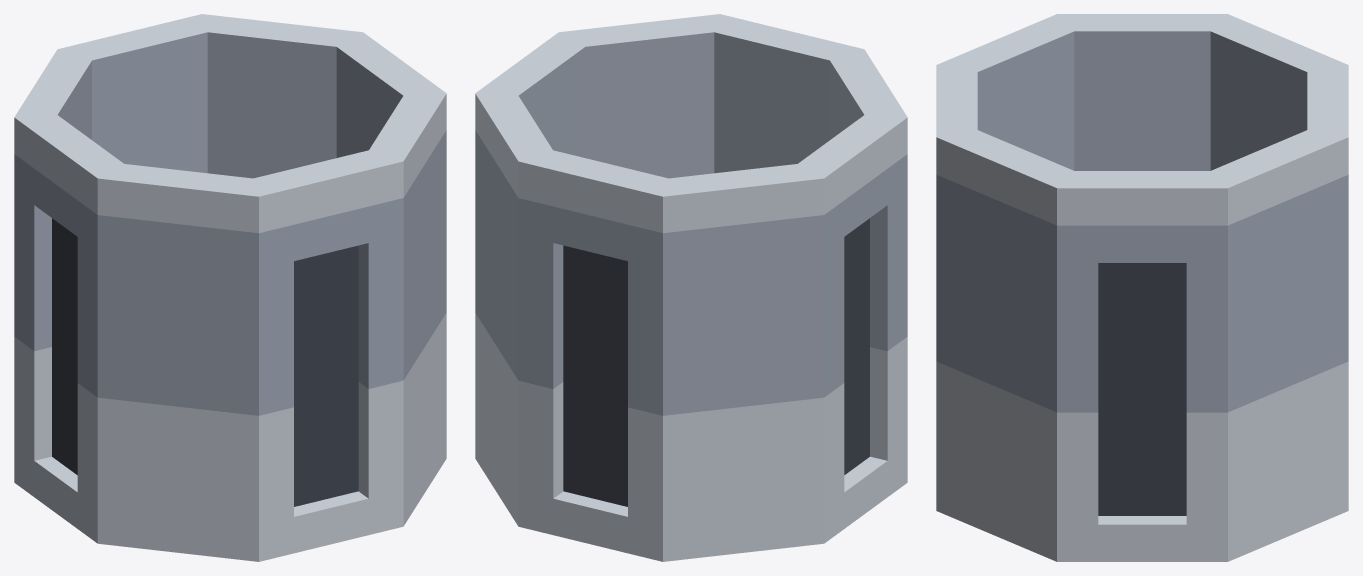
File: rocket_sidesA.glb
3 views of the same model, side by side, from view 1: azimuth 30°, elevation 25°; view 2: azimuth 150°, elevation 25°; view 3: azimuth 270°, elevation 25° (orthographic). The views are drawn at different scales.
Visible parts, largest first — view 1: rocket_sidesA; view 2: rocket_sidesA; view 3: rocket_sidesA.
Boxes of the visible parts, x1,y1,x2,y2 form: rocket_sidesA: [14, 14, 446, 561]; rocket_sidesA: [475, 14, 907, 561]; rocket_sidesA: [936, 14, 1348, 561].
Size of the model in its own units: 1 by 1 by 1.
